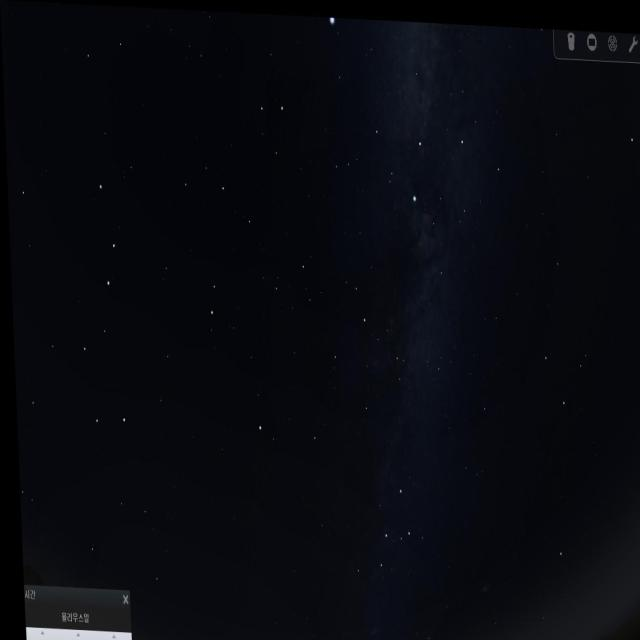cassiopeia: (337, 468, 428, 604)
cygnus: (365, 15, 472, 216)
ursa_major: (61, 151, 140, 462)
